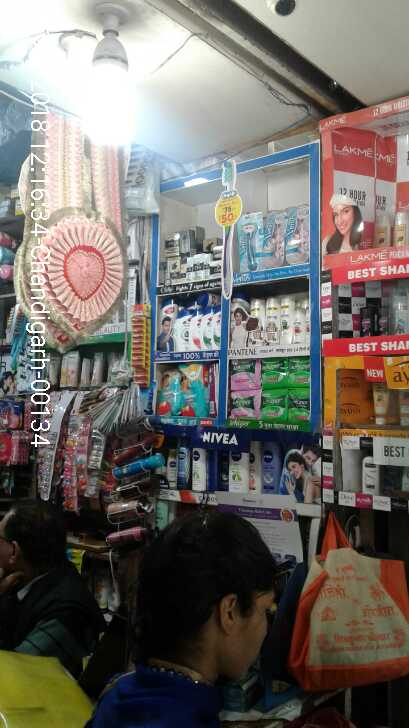venus: (259, 210, 283, 268), (236, 214, 259, 268), (283, 210, 306, 262)
